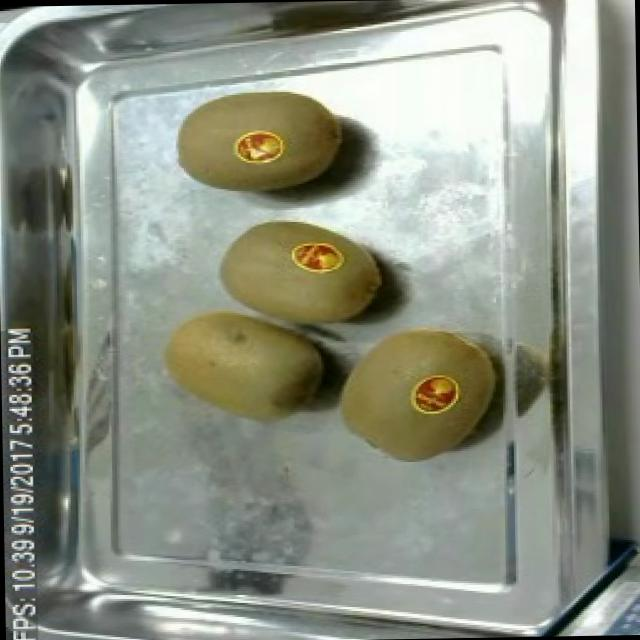Fruit: (330, 311, 503, 470), (167, 72, 355, 205), (154, 294, 334, 429), (212, 209, 392, 340)
